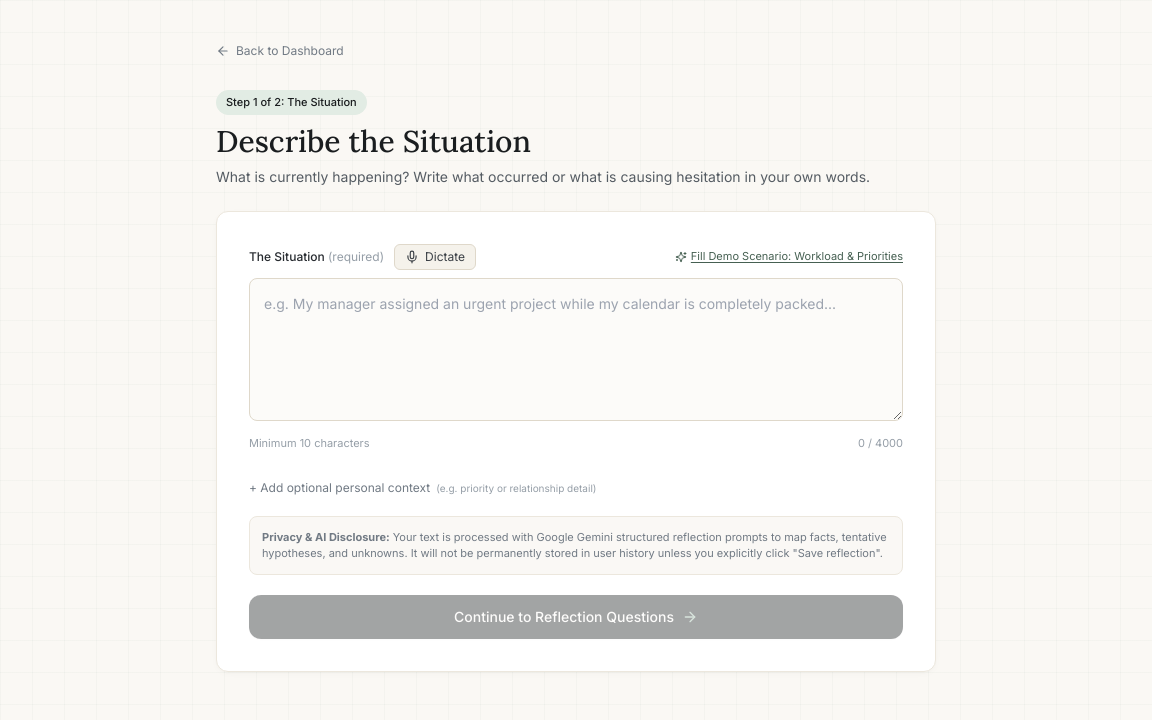
Scenario: SituationEntryPage — Speech-to-Text Dictation › transcribes recognized speech into the situation textarea and updates character counter
Click the button with aria-label "Dictate situation with microphone".
click(435, 256)  # box [394,244,476,270]
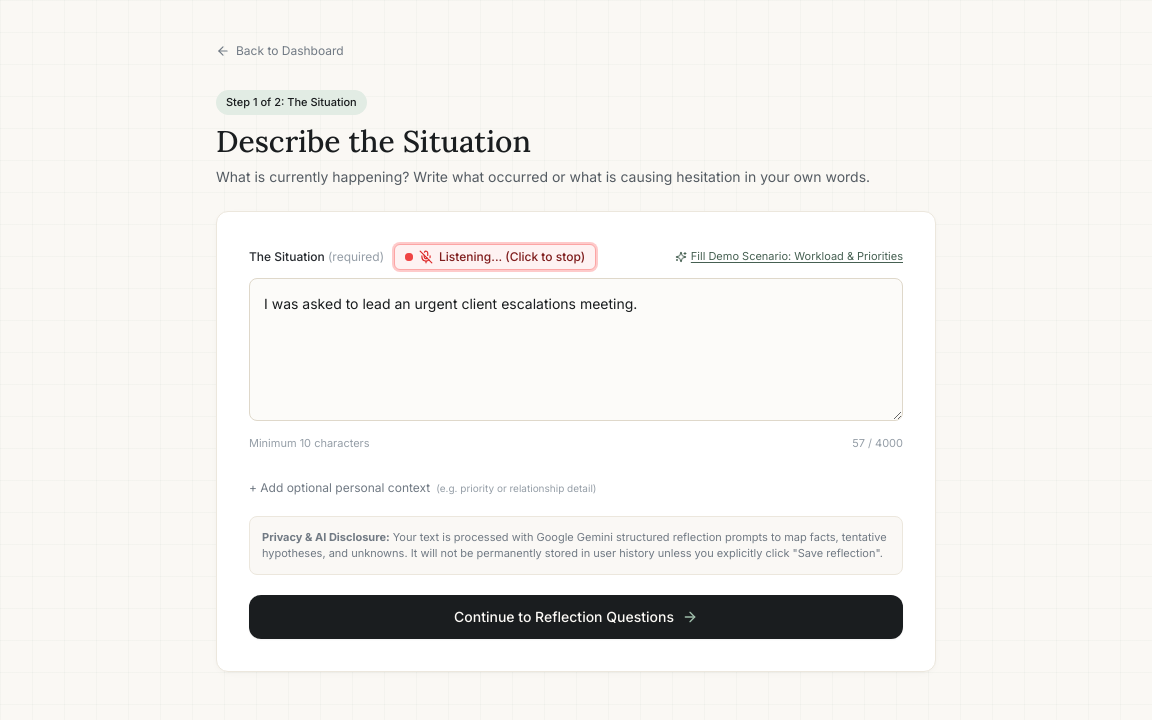
Check: the text box with placeholder "My manager assigned an urgent project" holds "I was asked to lead an urgent client escalations meeting.", box [249,278,903,421]
Check: the text "57 / 4000" is shown, box [852,435,903,452]
